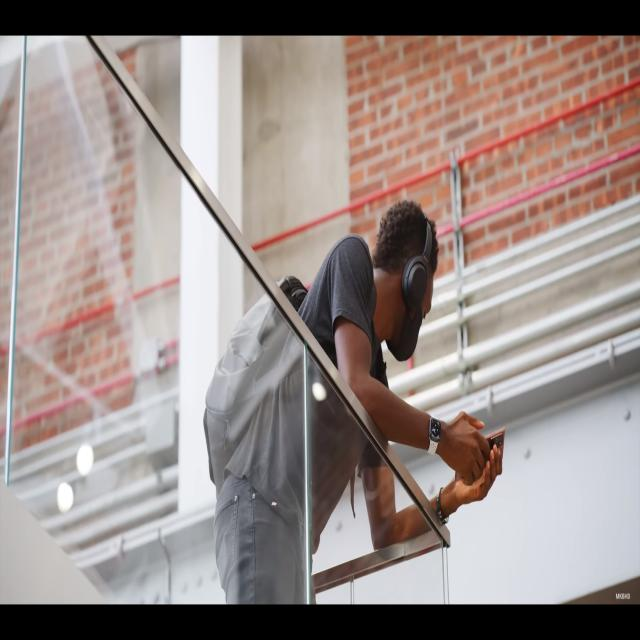Headphone: (401, 215, 433, 312)
